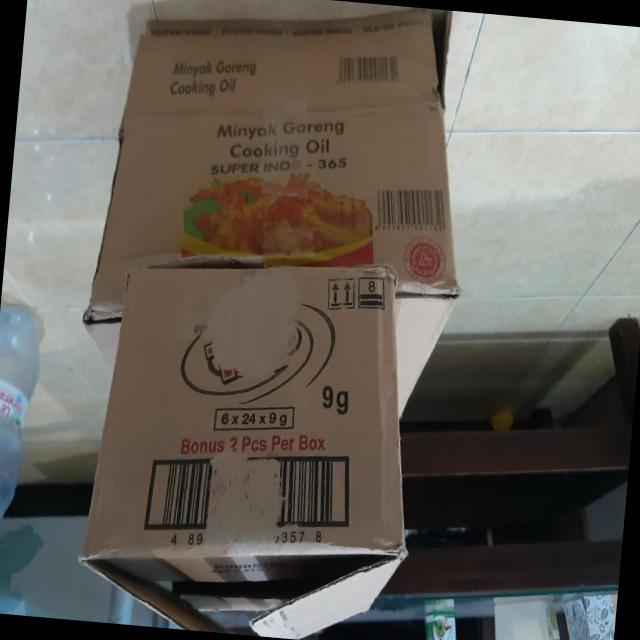Kardus: (87, 0, 484, 432), (74, 244, 435, 640)
